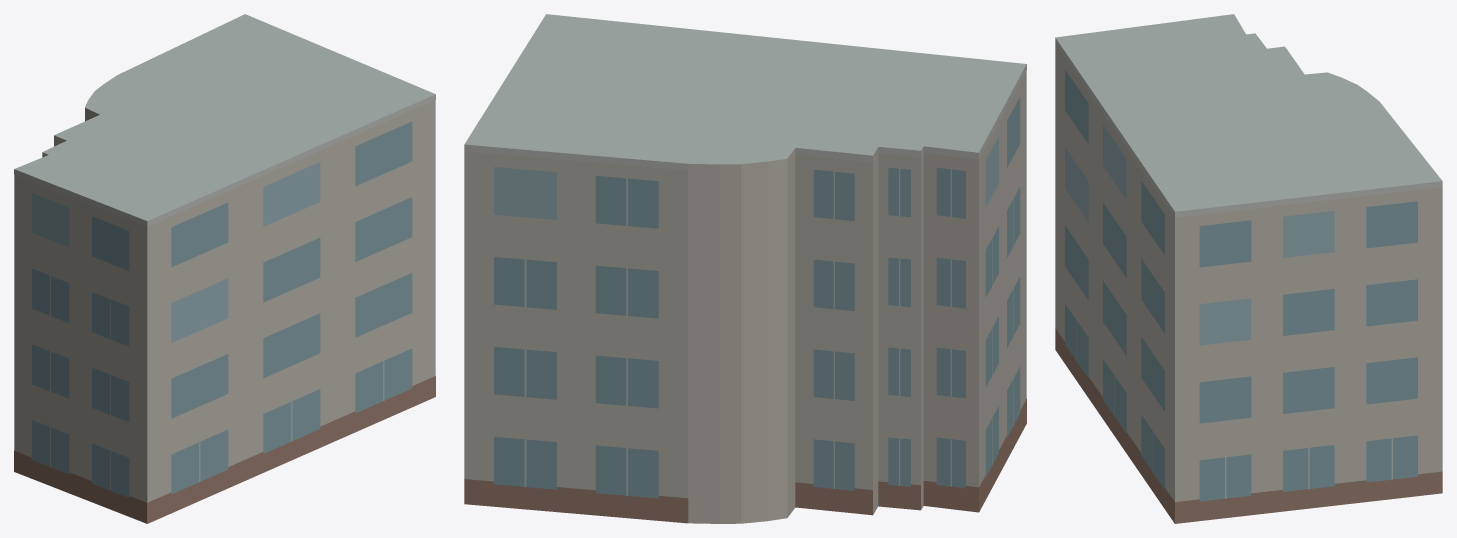
File: survey-upis-32490391.glb
3 views of the same model, side by side, from view 1: azimuth 30°, elevation 25°; view 2: azimuth 150°, elevation 25°; view 3: azimuth 270°, elevation 25° (orthographic). The views are drawn at different scales.
Visible parts, largest first — view 1: survey-upis-32490391.tmp; view 2: survey-upis-32490391.tmp; view 3: survey-upis-32490391.tmp.
Part boxes in pixels (x1=…): survey-upis-32490391.tmp: x1=14, y1=14, x2=435, y2=523; survey-upis-32490391.tmp: x1=464, y1=14, x2=1026, y2=523; survey-upis-32490391.tmp: x1=1055, y1=14, x2=1442, y2=523.
Size of the model in its own units: 17.81 by 13.1 by 14.74.
